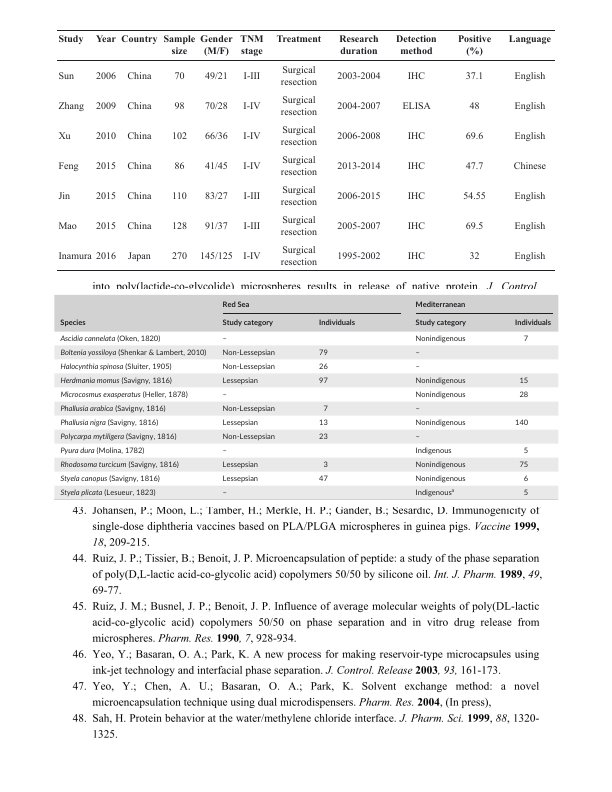borderless: (56, 29, 555, 270), (52, 294, 559, 501)
cell: (59, 347, 206, 359), (59, 389, 188, 401), (59, 459, 179, 471), (59, 431, 177, 443), (59, 361, 172, 373), (59, 375, 172, 387), (59, 403, 166, 415), (59, 333, 160, 345), (59, 473, 160, 485), (59, 417, 158, 429), (59, 487, 156, 499), (59, 445, 144, 457), (395, 35, 437, 58), (338, 35, 379, 58), (279, 95, 318, 119), (279, 66, 318, 89), (279, 125, 318, 148), (279, 155, 318, 178), (279, 185, 318, 208), (279, 215, 318, 238), (279, 245, 318, 268), (457, 35, 492, 58), (162, 35, 196, 58), (199, 35, 233, 58), (414, 298, 465, 311), (221, 347, 275, 359), (221, 361, 275, 373), (221, 403, 275, 415), (221, 431, 275, 443), (221, 317, 273, 329), (414, 317, 466, 329), (414, 333, 466, 345), (414, 375, 466, 387), (414, 389, 466, 401), (414, 417, 466, 429), (414, 459, 466, 471), (414, 473, 466, 485), (239, 35, 264, 58), (336, 101, 381, 113), (414, 486, 454, 499), (275, 35, 322, 46), (507, 35, 552, 46), (336, 72, 381, 83), (336, 131, 381, 142), (336, 161, 381, 172), (336, 191, 381, 202), (336, 221, 381, 232), (336, 251, 381, 262), (414, 445, 452, 457), (221, 375, 258, 387), (221, 417, 258, 429), (221, 459, 258, 471), (221, 473, 258, 485), (120, 35, 158, 46), (513, 101, 546, 113), (512, 161, 547, 172), (57, 251, 92, 262), (221, 298, 250, 311), (199, 251, 233, 262), (513, 72, 546, 83), (513, 131, 546, 142), (513, 191, 546, 202), (513, 221, 546, 232), (513, 251, 546, 262), (401, 101, 431, 113), (57, 101, 85, 113), (59, 317, 86, 329), (126, 101, 152, 113), (317, 319, 355, 327), (513, 319, 551, 327), (57, 35, 84, 46), (204, 101, 228, 113), (126, 72, 152, 83), (126, 131, 152, 142), (126, 161, 152, 172), (126, 191, 152, 202), (126, 221, 152, 232), (204, 72, 228, 83), (95, 101, 117, 113), (204, 131, 228, 142), (204, 161, 228, 172), (204, 191, 228, 202), (462, 191, 486, 202), (204, 221, 228, 232), (127, 251, 151, 262), (95, 35, 117, 46), (94, 72, 116, 83), (94, 131, 116, 142), (57, 161, 79, 172), (95, 161, 117, 172), (95, 191, 117, 202), (95, 221, 117, 232), (95, 251, 117, 262), (242, 101, 261, 113), (406, 72, 426, 83), (464, 72, 484, 83), (406, 131, 426, 142), (464, 131, 484, 142), (406, 161, 426, 172), (464, 161, 484, 172), (406, 191, 426, 202), (57, 221, 77, 232), (406, 221, 426, 232), (464, 221, 484, 232), (406, 251, 426, 262), (242, 72, 261, 83), (242, 131, 261, 142), (242, 161, 261, 172), (242, 191, 261, 202), (242, 221, 261, 232), (242, 251, 261, 262), (57, 72, 75, 83), (171, 131, 188, 142), (171, 221, 188, 232), (171, 251, 188, 262), (171, 191, 187, 202), (57, 131, 71, 142), (57, 191, 71, 202), (173, 101, 185, 113), (468, 101, 480, 113), (173, 72, 185, 83), (173, 161, 185, 172), (468, 251, 480, 262), (317, 347, 328, 359), (317, 361, 328, 373), (317, 375, 328, 387), (513, 420, 528, 427), (317, 420, 328, 427), (317, 434, 328, 441), (317, 476, 328, 483), (522, 473, 528, 485), (518, 378, 528, 385), (518, 392, 528, 399), (518, 462, 528, 469), (221, 336, 227, 343), (522, 336, 528, 343), (414, 350, 420, 357), (414, 364, 420, 371), (221, 392, 227, 399), (322, 406, 328, 413), (414, 406, 420, 413), (414, 434, 420, 441), (221, 448, 227, 455), (522, 448, 528, 455), (322, 462, 328, 469), (221, 490, 227, 497), (522, 490, 528, 497)
